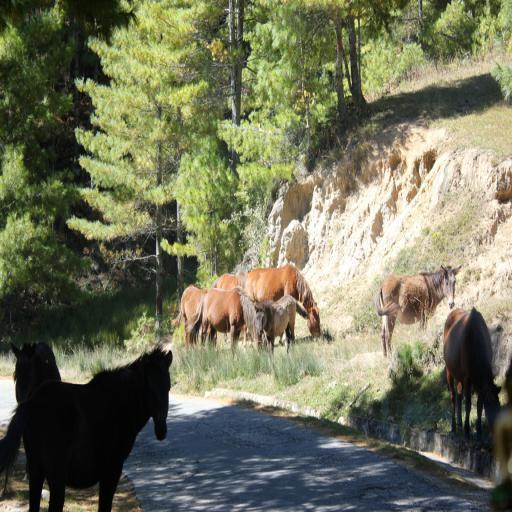horse: (0, 340, 174, 512), (440, 302, 504, 434), (8, 332, 64, 482), (242, 264, 322, 344), (184, 286, 267, 358), (253, 291, 297, 359), (172, 283, 211, 349)
